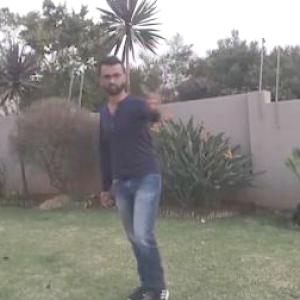takeoff-hand: (138, 72, 175, 113)
